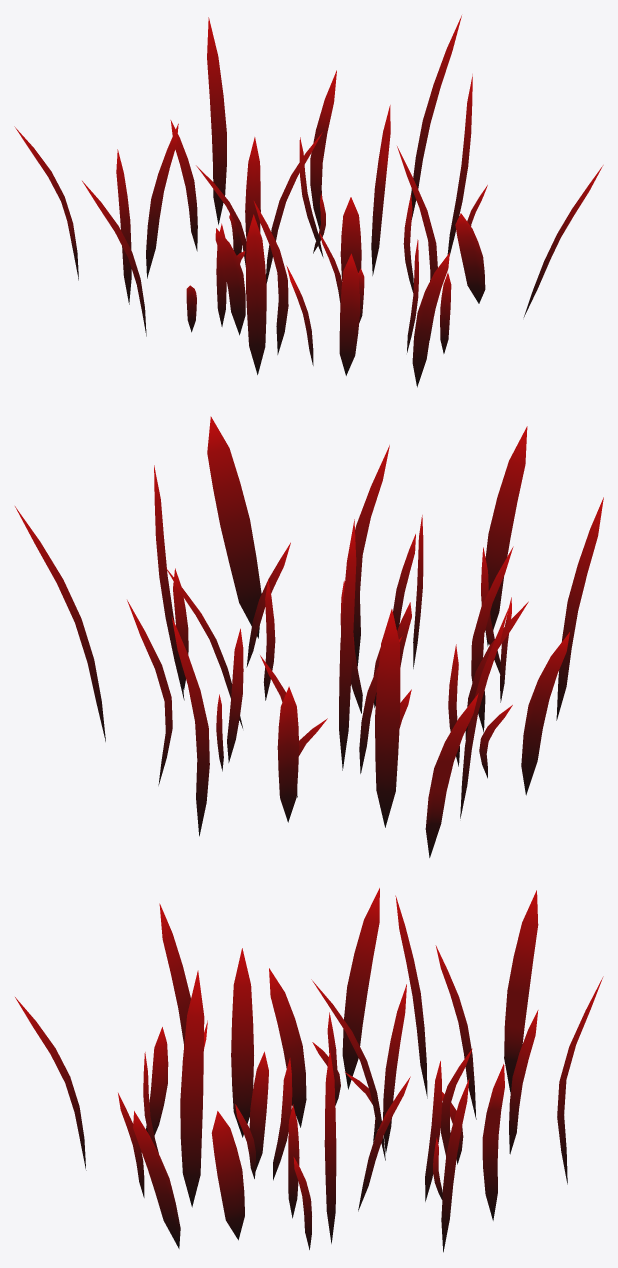
File: Object_Grass.fbx
3 renders of one model, top to bottom at view 1: azimuth 30°, elevation 25°; view 2: azimuth 150°, elevation 25°; view 3: azimuth 270°, elevation 25°, orthographic. The views are drawn at different scales.
Parts seen in each view (by area): view 1: Grass; view 2: Grass; view 3: Grass.
Part boxes in pixels (x1,y1,x2,y2): Grass: (14,15,603,387); Grass: (15,416,603,857); Grass: (15,888,603,1252).
Bounding box in the file's own units: 64.74 × 29.63 × 71.39.
